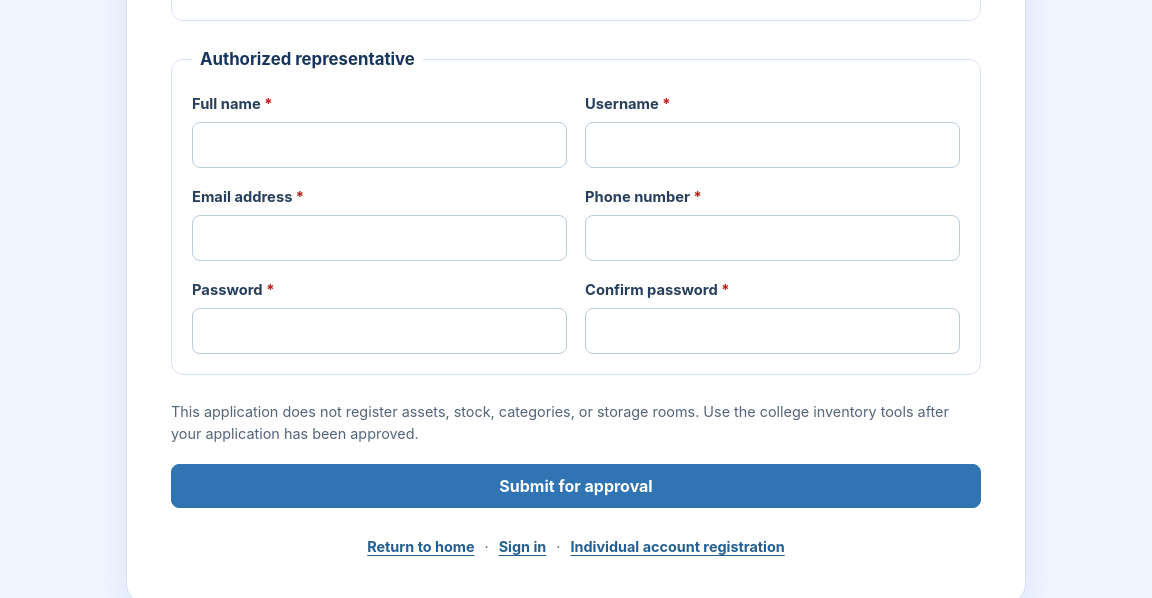
Test: College self-registration › validates required fields and password confirmation before submitting
(page scrolled)
Step 1. Click the button "Submit for approval" → (576,486), box left=171, top=464, right=981, bottom=508
(page scrolled)
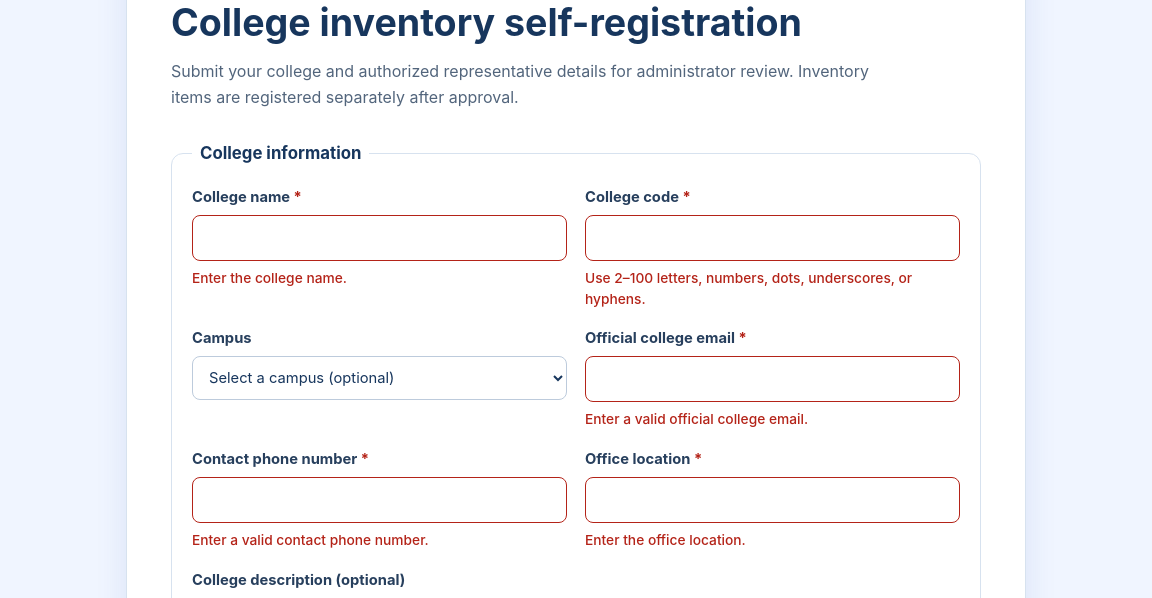
Expected: the text "Enter the college name." is shown, left=192, top=270, right=347, bottom=286
